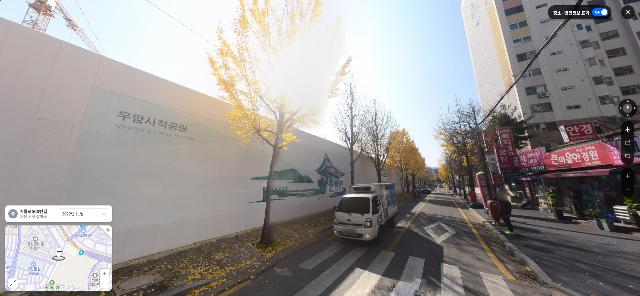ginkgo: (207, 1, 352, 249), (386, 127, 416, 199), (436, 139, 464, 198), (407, 147, 426, 194)
other: (435, 91, 495, 207), (477, 103, 537, 208), (328, 62, 369, 185), (358, 98, 398, 184)
